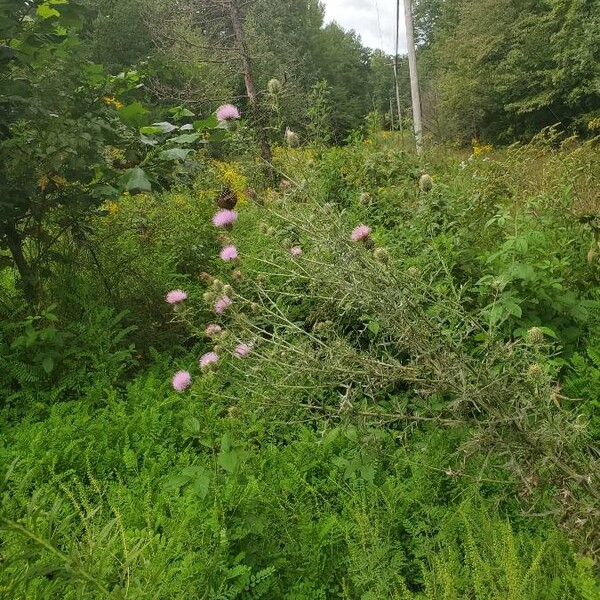obstacle: (155, 144, 532, 516)
